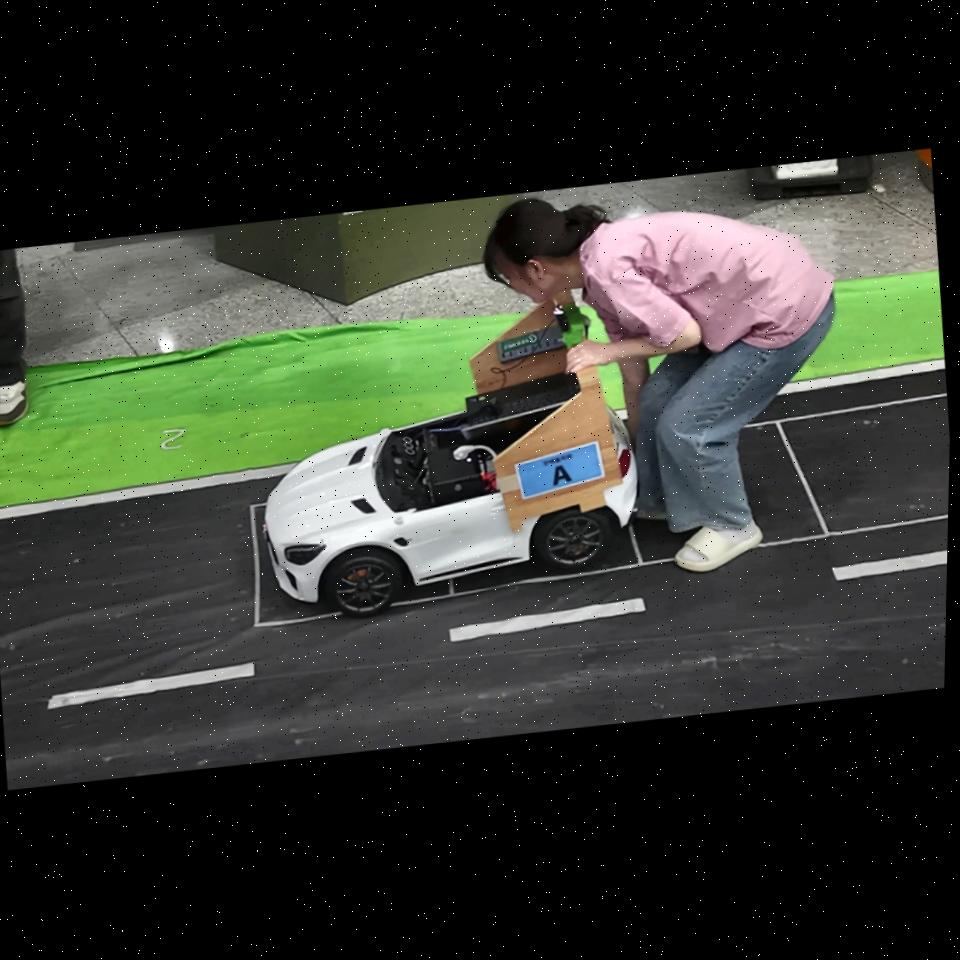broken_line: (47, 662, 255, 709), (449, 598, 646, 642), (832, 550, 947, 581)
